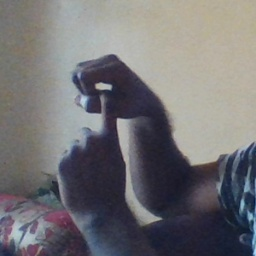Q: (56, 51, 146, 172)
